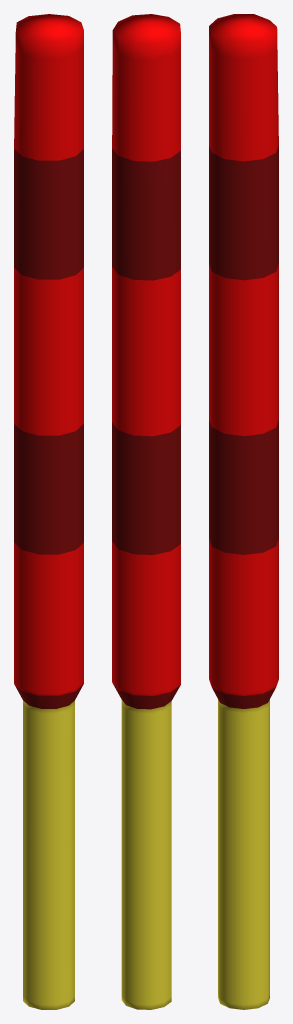
Rendered from Firework_Stick.FBX.
3 views of the same model, side by side, from view 1: azimuth 90°, elevation 25°; view 2: azimuth 150°, elevation 25°; view 3: azimuth 270°, elevation 25° (orthographic).
Visible parts, largest first — view 1: Cylinder001; view 2: Cylinder001; view 3: Cylinder001.
Boxes of the visible parts, box(x1,y1,x2,y2) form: Cylinder001: box(14, 14, 83, 1009); Cylinder001: box(112, 14, 180, 1009); Cylinder001: box(209, 14, 278, 1009).
Bounding box in the file's own units: 7.09 × 112 × 7.26.
